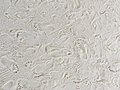human_foot_print: (2, 55, 21, 74), (50, 48, 75, 60), (34, 22, 58, 33), (106, 60, 120, 76), (6, 28, 24, 40), (104, 34, 119, 48), (80, 44, 90, 62), (24, 61, 36, 74), (33, 74, 50, 82), (3, 80, 15, 90)
